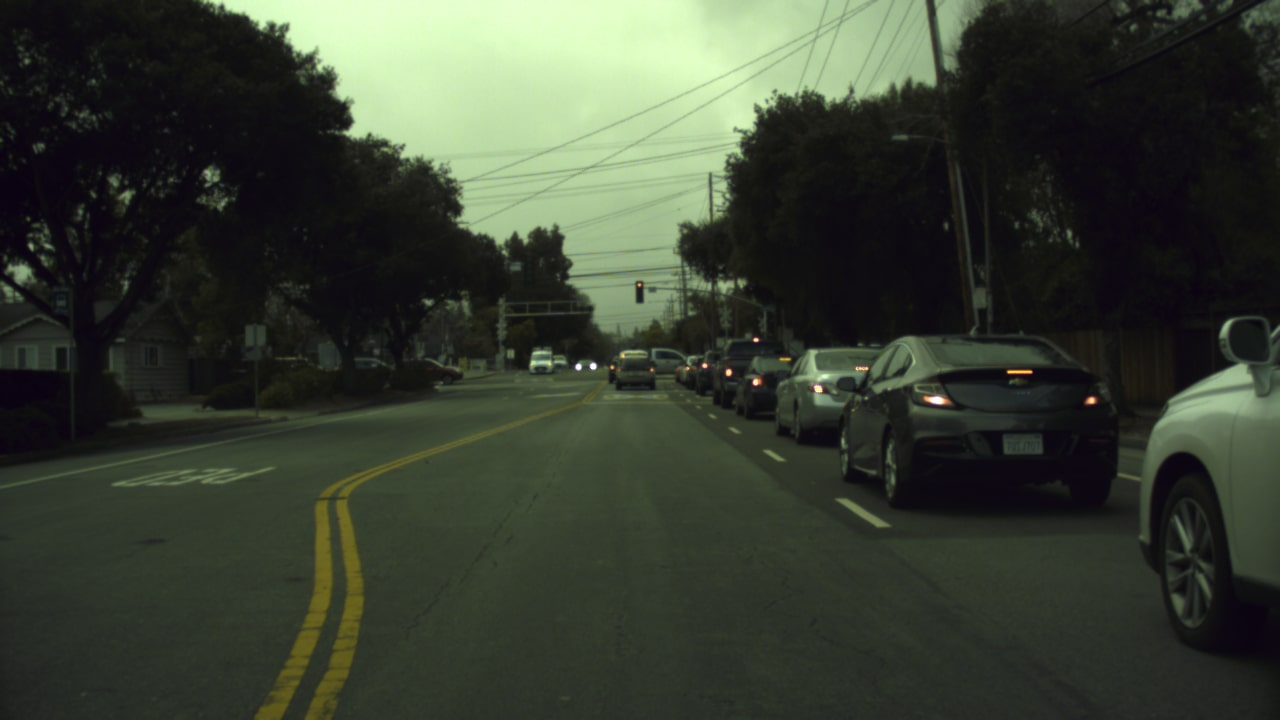signal: (634, 277, 643, 303)
